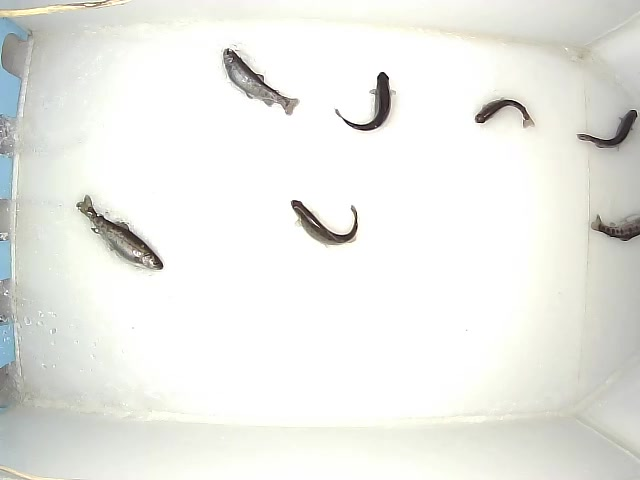fish: (75, 194, 165, 273), (221, 47, 301, 117), (332, 71, 398, 133), (289, 198, 360, 248), (574, 108, 639, 152), (473, 96, 536, 130), (587, 212, 640, 242)
